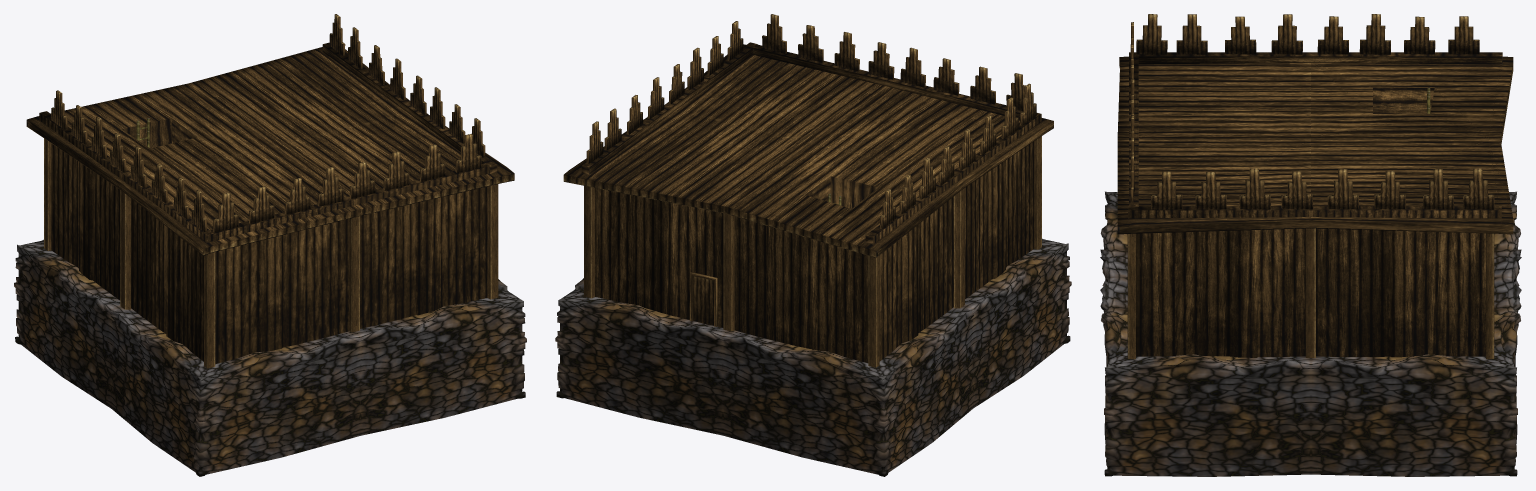
File: bastion.glb
3 views of the same model, side by side, from view 1: azimuth 30°, elevation 25°; view 2: azimuth 150°, elevation 25°; view 3: azimuth 270°, elevation 25° (orthographic). The views are drawn at different scales.
Parts seen in each view (by area): view 1: WatchTower/Bastion01-Large; view 2: WatchTower/Bastion01-Large; view 3: WatchTower/Bastion01-Large.
Boxes of the visible parts, x1,y1,x2,y2 form: WatchTower/Bastion01-Large: [14, 14, 526, 476]; WatchTower/Bastion01-Large: [555, 14, 1071, 476]; WatchTower/Bastion01-Large: [1100, 14, 1521, 476].
Size of the model in its own units: 16.41 by 12.47 by 16.09.
1 material, 1 textured.
